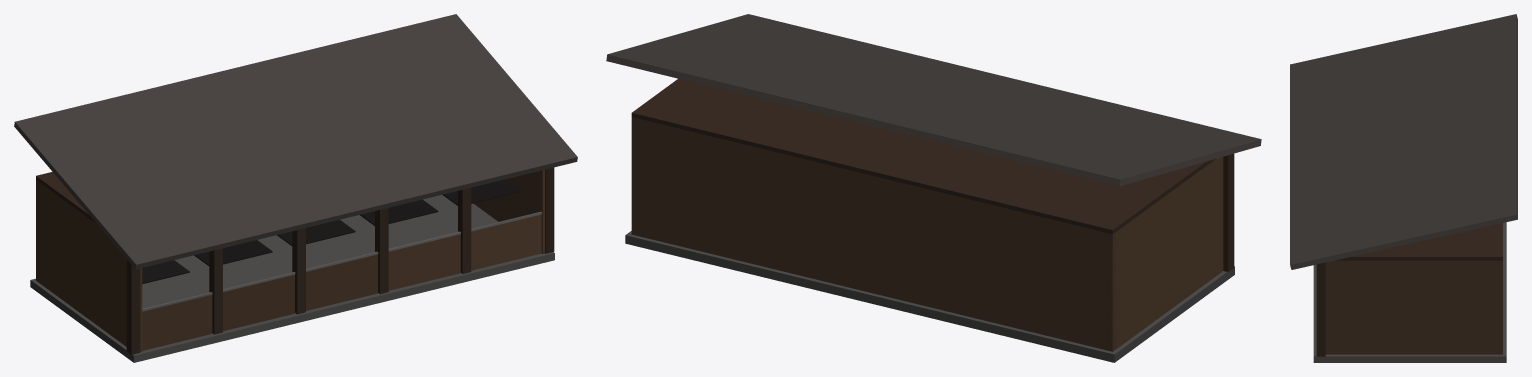
File: walk_prop_stable.glb
3 renders of one model, left to right at view 1: azimuth 30°, elevation 25°; view 2: azimuth 150°, elevation 25°; view 3: azimuth 270°, elevation 25°, orthographic. The views are drawn at different scales.
Visible parts, largest first — view 1: walk_prop_stable_roof, walk_prop_stable; view 2: walk_prop_stable, walk_prop_stable_roof; view 3: walk_prop_stable_roof, walk_prop_stable.
Part boxes in pixels (bbox=[...]): walk_prop_stable_roof: bbox=[14, 14, 577, 269]; walk_prop_stable: bbox=[30, 167, 554, 362]; walk_prop_stable: bbox=[625, 78, 1234, 362]; walk_prop_stable_roof: bbox=[606, 14, 1261, 186]; walk_prop_stable_roof: bbox=[1290, 14, 1517, 269]; walk_prop_stable: bbox=[1313, 222, 1506, 362].
Size of what is drawn, in the model's own units: 12.8 by 4.55 by 6.14.
Materials: 2 (2 with a texture image).
